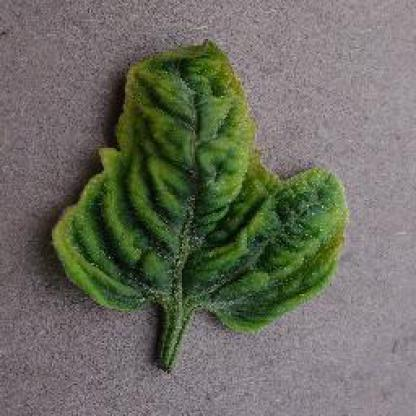bad leaf: (50, 38, 352, 372)
